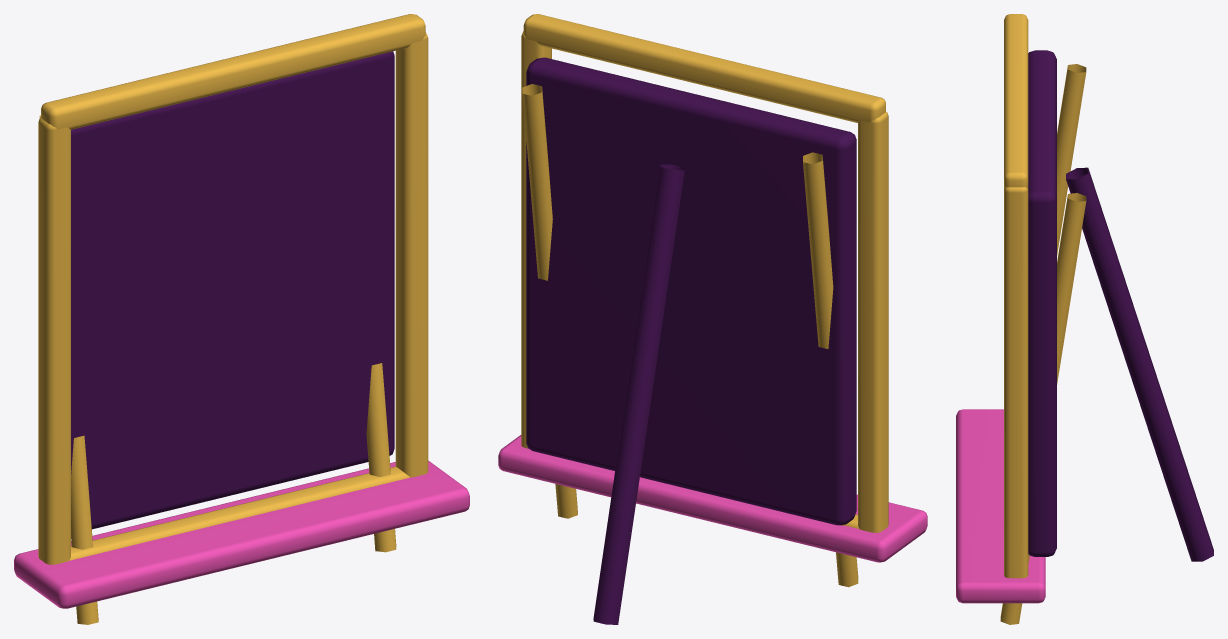
The model's file is easel-frame.glb.
3 renders of one model, left to right at view 1: azimuth 30°, elevation 25°; view 2: azimuth 150°, elevation 25°; view 3: azimuth 270°, elevation 25°, orthographic. The views are drawn at different scales.
Parts seen in each view (by area): view 1: picture_back, ledge, frame_side.001, frame_side, frame_rail.001, frame_rail, front_leg.001, front_leg; view 2: picture_back, frame_side, rear_leg, ledge, frame_rail.001, front_leg.001, front_leg, frame_side.001; view 3: picture_back, ledge, rear_leg, frame_side.001, frame_rail.001, front_leg.001, front_leg.
Part boxes in pixels (x1,y1,x2,y2): picture_back: (71, 51, 394, 529); ledge: (14, 460, 469, 608); frame_side.001: (395, 32, 428, 477); frame_side: (38, 118, 70, 564); frame_rail.001: (41, 14, 425, 129); frame_rail: (69, 466, 410, 560); front_leg.001: (366, 363, 396, 552); front_leg: (39, 115, 98, 624); picture_back: (526, 57, 856, 525); frame_side: (858, 112, 888, 532); rear_leg: (593, 164, 684, 624); ledge: (498, 435, 927, 562); frame_rail.001: (523, 14, 885, 122); front_leg.001: (522, 84, 577, 518); front_leg: (803, 152, 858, 587); frame_side.001: (521, 31, 551, 448); picture_back: (1028, 50, 1056, 556); ledge: (956, 409, 1045, 603); rear_leg: (1066, 167, 1213, 561); frame_side.001: (1004, 187, 1028, 578); frame_rail.001: (1004, 14, 1028, 188); front_leg.001: (1000, 193, 1086, 624); front_leg: (1057, 64, 1086, 255).
Size of the model in its own units: 0.47 by 0.5727 by 0.2874.
